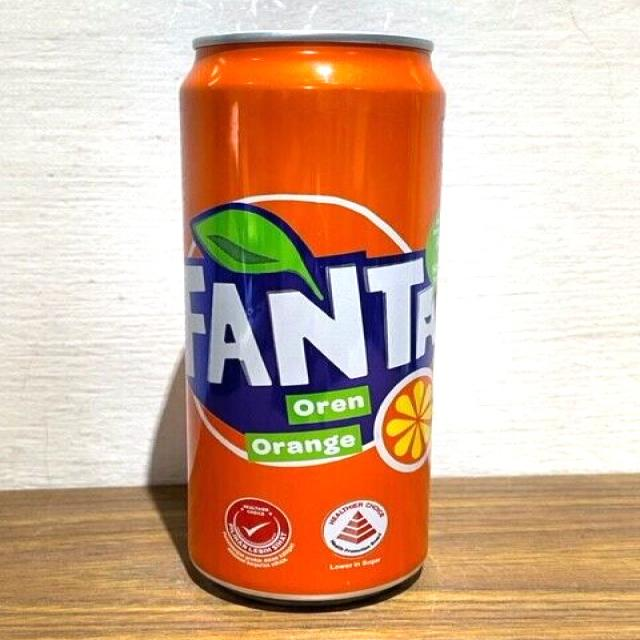fanta: (178, 34, 435, 611)
